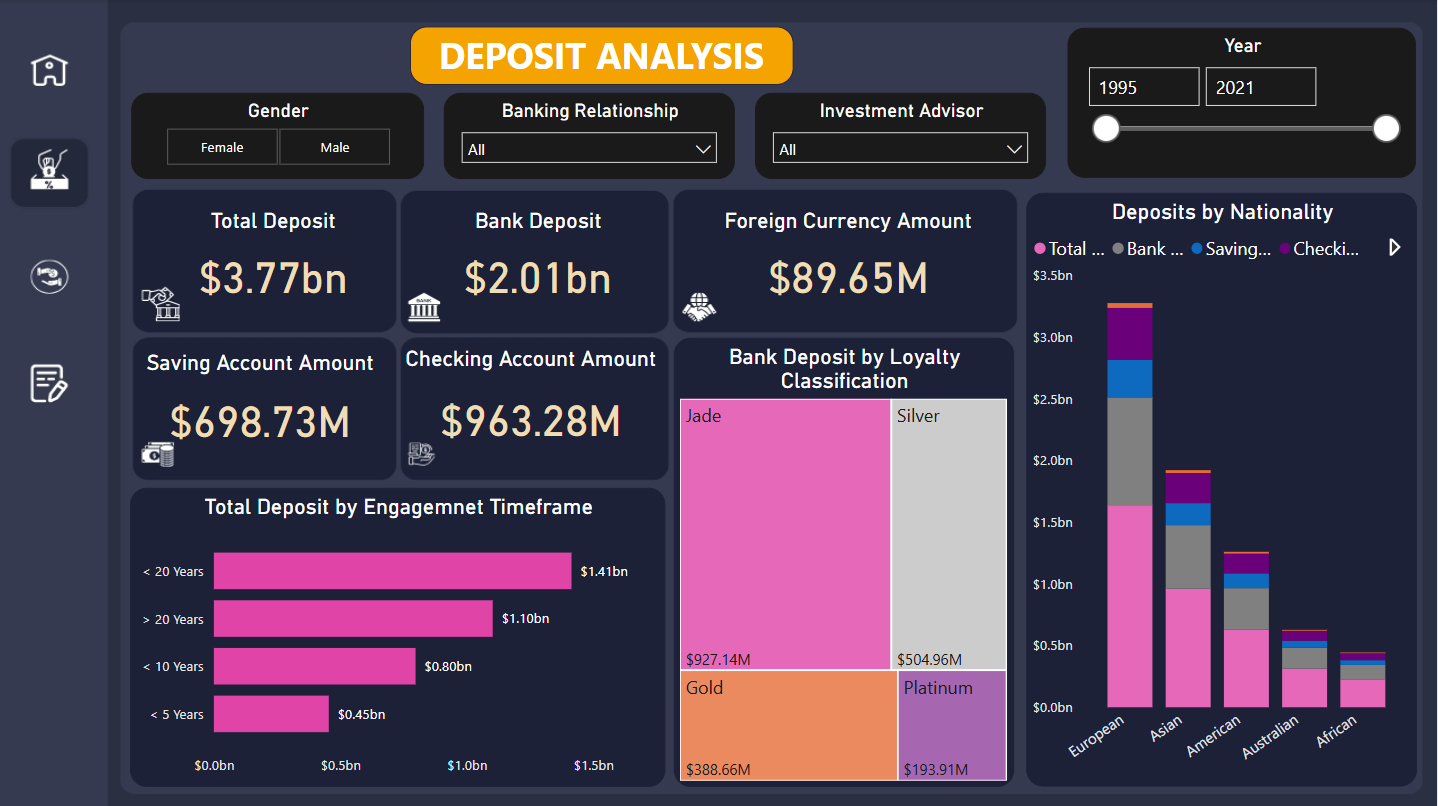

The dashboard page shown, as its layout file describes it:
{"tool":"powerbi","page":{"name":"Deposit","canvas":[1280,720],"ordinal":1},"visuals":[{"type":"actionButton","box":[8.6,31.5,70.2,63],"z":0},{"type":"actionButton","box":[8.6,123.2,70.2,63],"z":1000},{"type":"actionButton","box":[10,214.8,70.2,63],"z":2000},{"type":"actionButton","box":[8.6,309.3,70.2,63],"z":3000},{"type":"card","title":"Total Deposit","fields":{"Values":["DAX Measures.Total Deposit"]},"box":[127.4,185.9,232.7,106.6],"z":4000},{"type":"card","title":"Saving Account Amount","fields":{"Values":["DAX Measures.Savings Account"]},"box":[122.2,313.2,218.4,107.9],"z":5000},{"type":"card","title":"Bank Deposit","fields":{"Values":["DAX Measures.Bank Deposit"]},"box":[374.3,185.9,210.6,106.6],"z":6000},{"type":"card","title":"Foreign Currency Amount","fields":{"Values":["DAX Measures.Foreign Currency Account"]},"box":[639.5,185.9,232.7,106.6],"z":7000},{"type":"card","title":"Checking Account Amount","fields":{"Values":["DAX Measures.Checking Accounts"]},"box":[354.8,309.3,235.3,114.4],"z":8000},{"type":"treemap","title":"Bank Loan by Nationality","fields":{"Values":["DAX Measures.Bank Deposit"],"Details":["Clients - Banking.Income Band"]},"box":[600.5,301.5,302.8,400.3],"z":9000},{"type":"clusteredBarChart","title":"Total Deposit by Engagemnet Timeframe","fields":{"Category":["Clients - Banking.Engagement Timeframe"],"Y":["DAX Measures.Total Deposit"]},"box":[115.7,435.4,477,266.5],"z":10000},{"type":"columnChart","title":"Deposits by Nationality","fields":{"Category":["Clients - Banking.Nationality"],"Y":["DAX Measures.Total Deposit","DAX Measures.Bank Deposit","DAX Measures.Savings Account","DAX Measures.Checking Accounts","DAX Measures.Foreign Currency Account"]},"box":[913.7,172.9,348.3,529],"z":11000},{"type":"slicer","title":"Gender","fields":{"Values":["Gender.Gender"]},"box":[116.9,83.5,260.5,76.8],"z":12000},{"type":"slicer","title":"Banking Relationship","fields":{"Values":["Banking Relationship.Banking Relationship"]},"box":[395.2,83.5,259.4,76.8],"z":13000},{"type":"slicer","title":"Investment Advisor","fields":{"Values":["Investment Advisor.Investment Advisor"]},"box":[672.4,83.5,259.4,76.8],"z":14000},{"type":"slicer","title":"Year","fields":{"Values":["Clients - Banking.Joined Bank.Variation.Date Hierarchy.Year"]},"box":[950.1,26,310.6,133.9],"z":15000},{"type":"textbox","box":[365.6,24.1,341.4,51.9],"z":16000}]}

Visuals, with their boxes in screenshot pixels (x1, y1, x2, y2), scaled from the page's 1280x720 canvas onto the 1438x806 screenshot:
actionButton: l=10, t=35, r=89, b=106
actionButton: l=10, t=138, r=89, b=208
actionButton: l=11, t=240, r=90, b=311
actionButton: l=10, t=346, r=89, b=417
"Total Deposit" card: l=143, t=208, r=405, b=327
"Saving Account Amount" card: l=137, t=351, r=383, b=471
"Bank Deposit" card: l=421, t=208, r=657, b=327
"Foreign Currency Amount" card: l=718, t=208, r=980, b=327
"Checking Account Amount" card: l=399, t=346, r=663, b=474
"Bank Loan by Nationality" treemap: l=675, t=338, r=1015, b=786
"Total Deposit by Engagemnet Timeframe" clusteredBarChart: l=130, t=487, r=666, b=786
"Deposits by Nationality" columnChart: l=1026, t=194, r=1418, b=786
"Gender" slicer: l=131, t=93, r=424, b=179
"Banking Relationship" slicer: l=444, t=93, r=735, b=179
"Investment Advisor" slicer: l=755, t=93, r=1047, b=179
"Year" slicer: l=1067, t=29, r=1416, b=179
textbox: l=411, t=27, r=794, b=85
